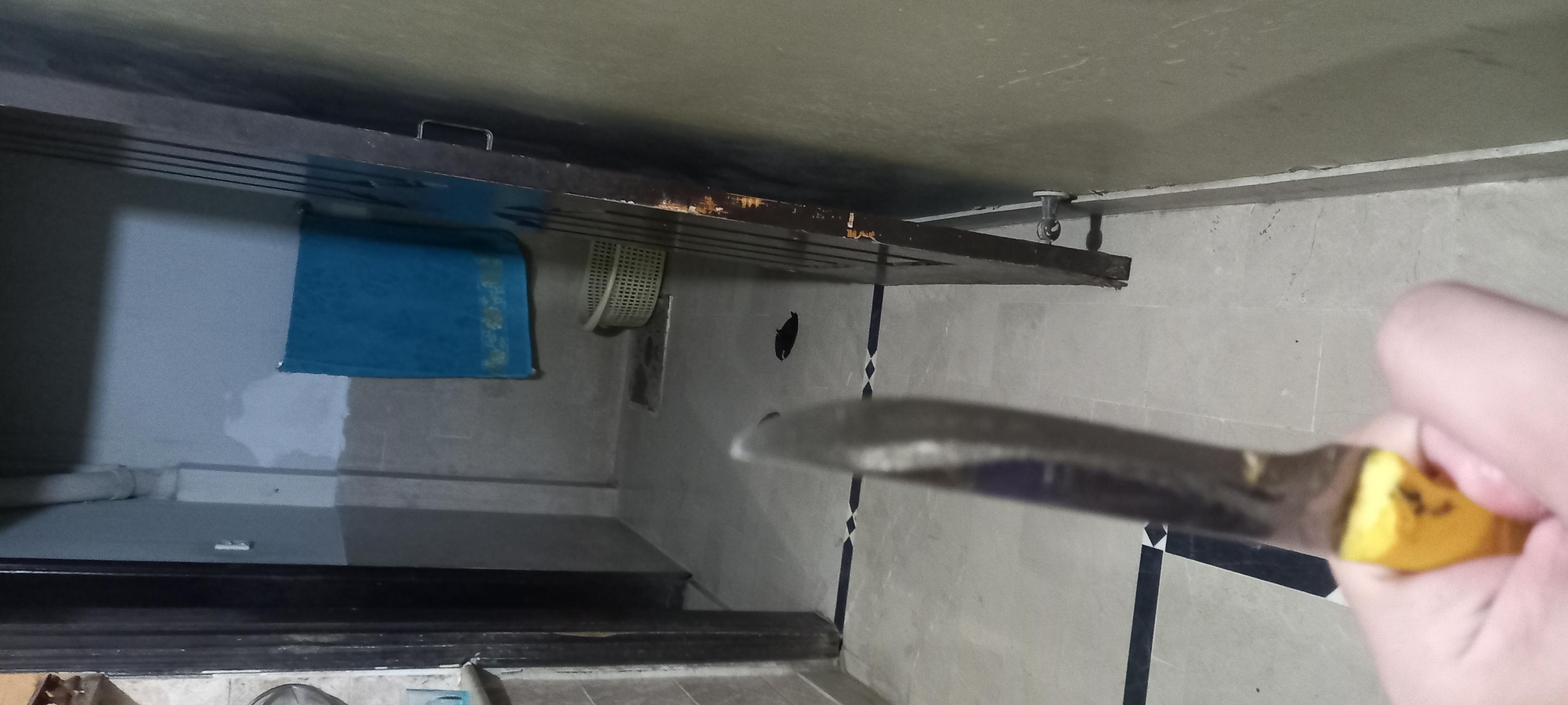knives: (242, 323, 754, 687)
